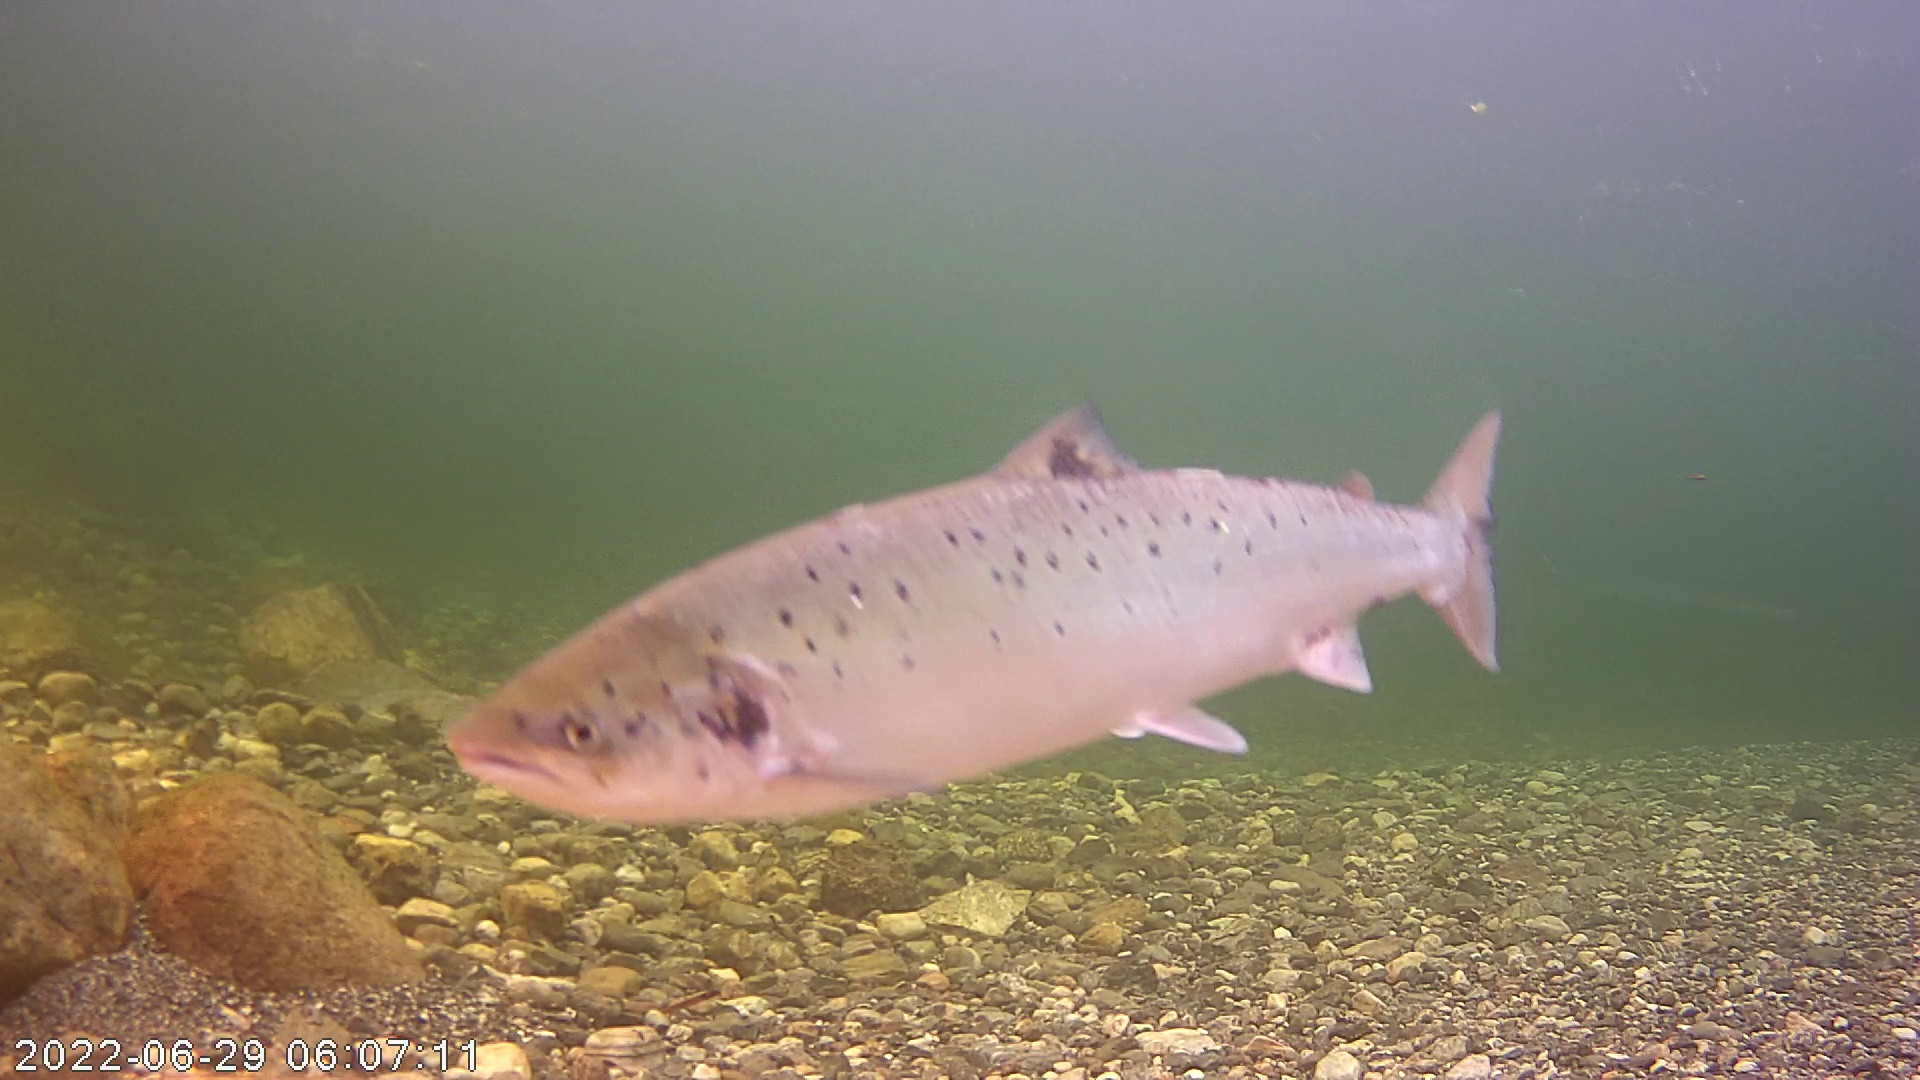salmon: (491, 315, 1516, 804)
